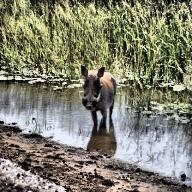boar: (77, 65, 132, 143)
